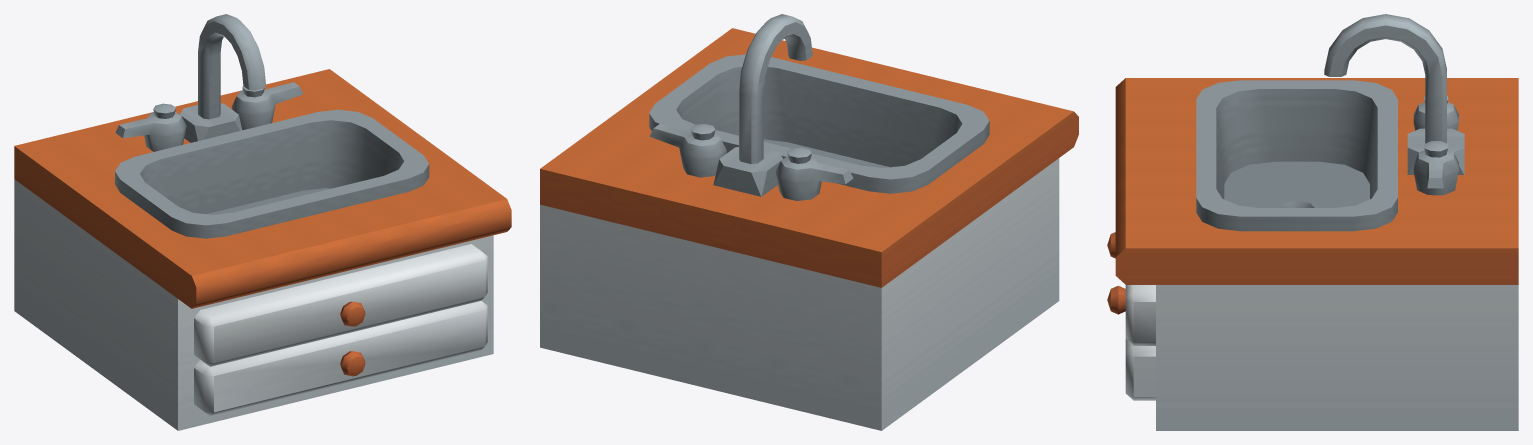
Rendered from kitchencounter-sink.glb.
3 views of the same model, side by side, from view 1: azimuth 30°, elevation 25°; view 2: azimuth 150°, elevation 25°; view 3: azimuth 270°, elevation 25° (orthographic). The views are drawn at different scales.
Parts seen in each view (by area): view 1: kitchencounter_sink; view 2: kitchencounter_sink; view 3: kitchencounter_sink.
Boxes of the visible parts, bbox=[...] form: kitchencounter_sink: bbox=[14, 14, 511, 430]; kitchencounter_sink: bbox=[540, 14, 1078, 430]; kitchencounter_sink: bbox=[1107, 14, 1518, 430].
Size of the model in its own units: 2 by 1.8 by 2.04.
Materials: 1 (1 with a texture image).
